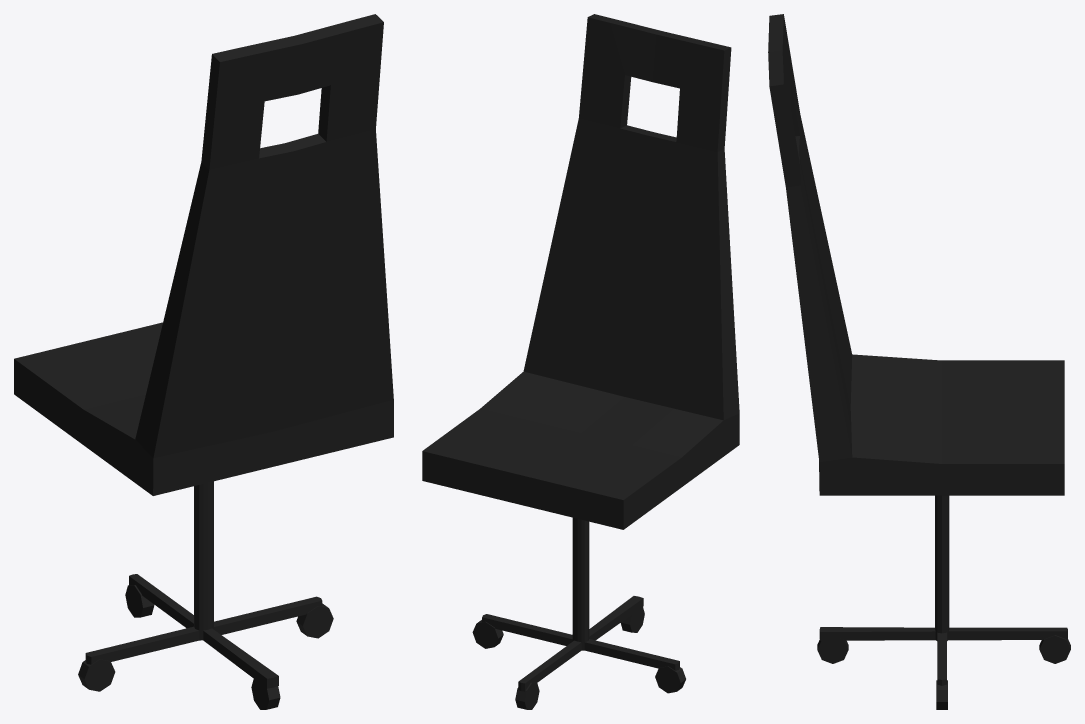
File: chair.gltf
3 renders of one model, left to right at view 1: azimuth 30°, elevation 25°; view 2: azimuth 150°, elevation 25°; view 3: azimuth 270°, elevation 25°, orthographic. The views are drawn at different scales.
Visible parts, largest first — view 1: Cube; view 2: Cube; view 3: Cube.
Part boxes in pixels (x1=…): Cube: x1=14, y1=14, x2=393, y2=709; Cube: x1=422, y1=14, x2=739, y2=709; Cube: x1=768, y1=14, x2=1070, y2=709.
Bounding box in the file's own units: 0.5201 × 1.39 × 0.6208.
Materials: 1 (1 with a texture image).
